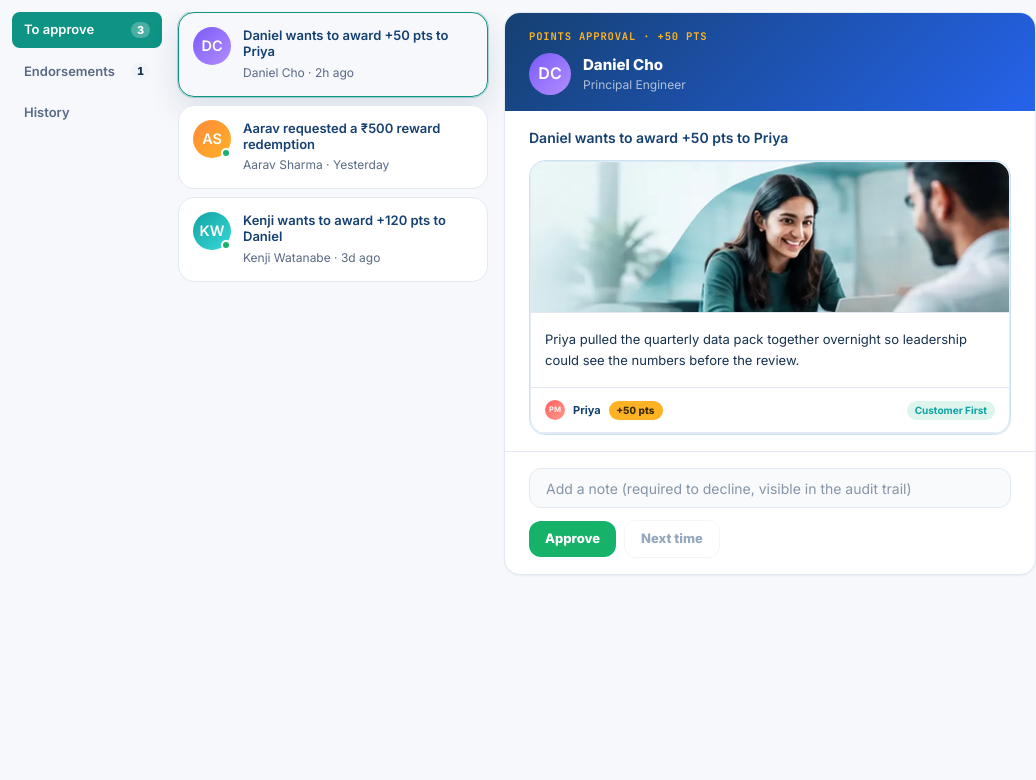
Scenario: ApprovalsBoard › declining is locked until a note is typed — the verdict ships with it
Later steps or results of the test are not shown.
Expected: the button "Next time" is disabled, [624,520,720,558]
Type "context lost this sprint" into the field named "Decision note".
click(770, 488); type("context lost this sprint")  # box [529,468,1011,508]
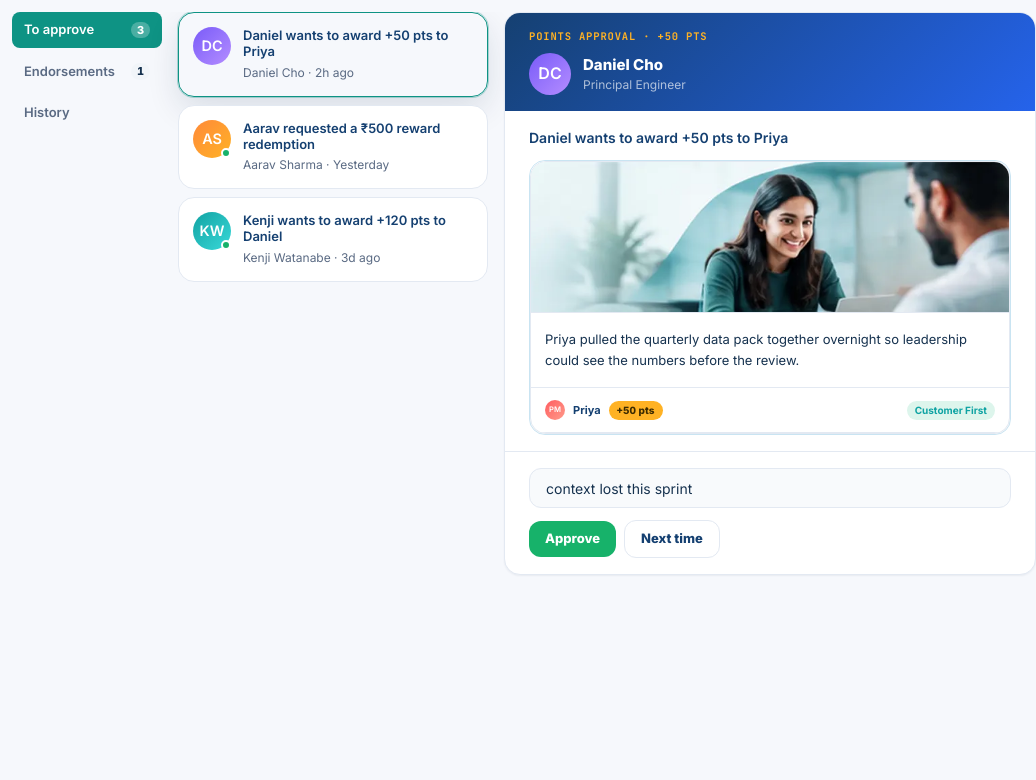
Expected: the button "Next time" is enabled, [624,520,720,558]
